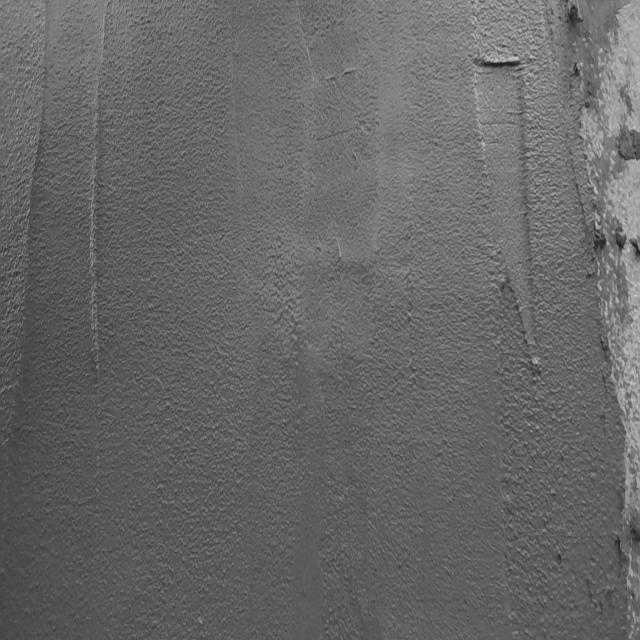trowels marks: (21, 52, 48, 514), (84, 48, 113, 386), (472, 41, 522, 91)
